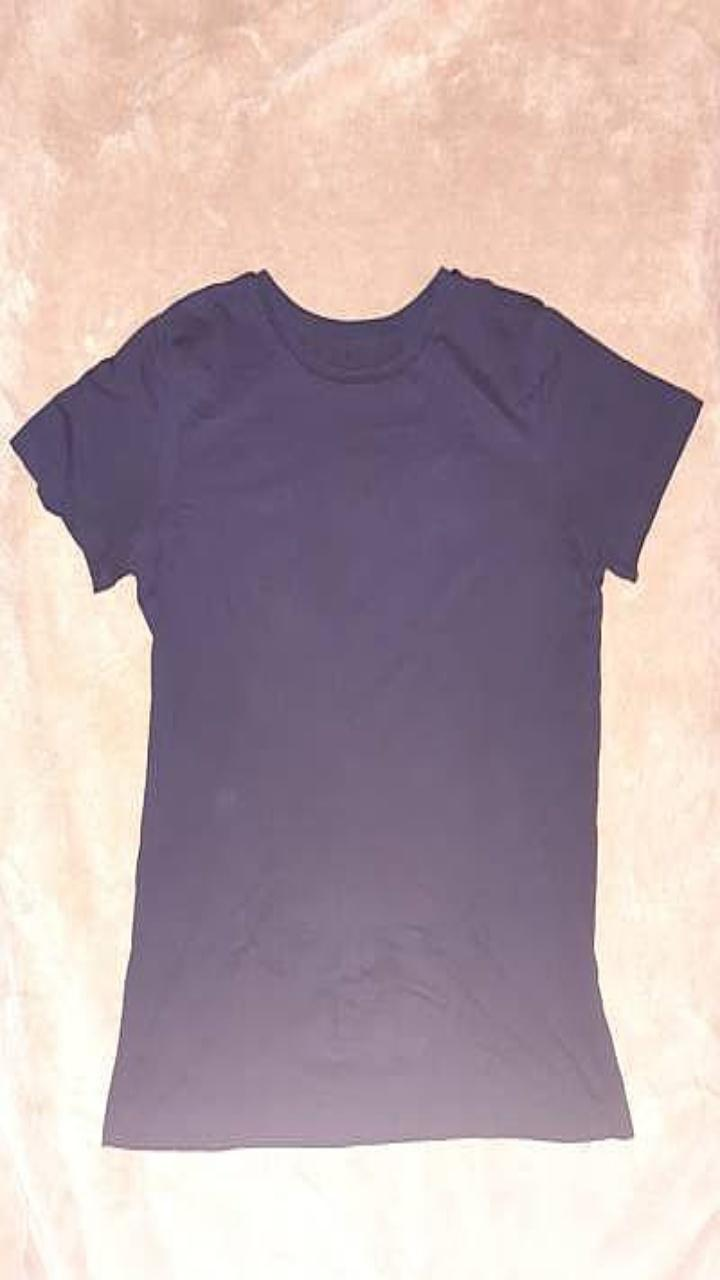T-Shirt: (10, 266, 702, 1149)
